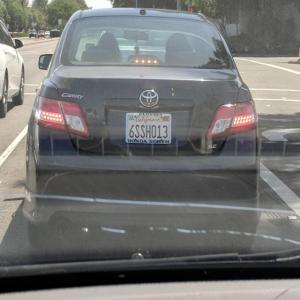Plate: (125, 111, 173, 145)
